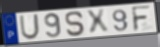9: (43, 12, 63, 39), (112, 9, 129, 33)
F: (130, 4, 153, 33)
S: (65, 10, 87, 37)
U: (19, 13, 41, 41)
X: (85, 8, 111, 36)
